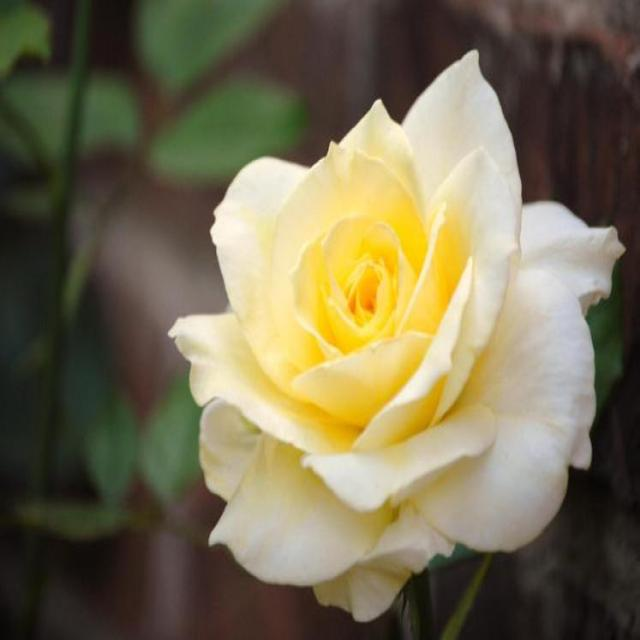rose: (178, 40, 618, 604)
